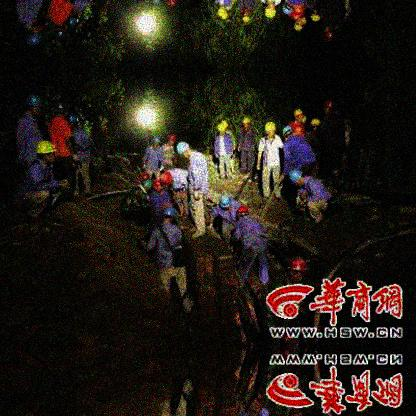helmet: (24, 23, 47, 50), (36, 140, 57, 166), (287, 257, 307, 284), (26, 94, 45, 117), (288, 169, 306, 189), (52, 22, 68, 43), (218, 194, 234, 212), (177, 142, 193, 160), (324, 24, 338, 44), (162, 207, 179, 223), (55, 99, 69, 115), (263, 122, 277, 138), (68, 10, 80, 28), (67, 114, 81, 128), (265, 4, 278, 19), (324, 99, 336, 115), (294, 18, 305, 35), (311, 9, 323, 24), (293, 108, 304, 123), (282, 126, 295, 138), (311, 118, 322, 132), (152, 136, 164, 148), (236, 206, 249, 217), (153, 180, 164, 193), (167, 134, 178, 146), (242, 11, 253, 23), (217, 5, 228, 16), (217, 124, 226, 135), (243, 118, 251, 130)
